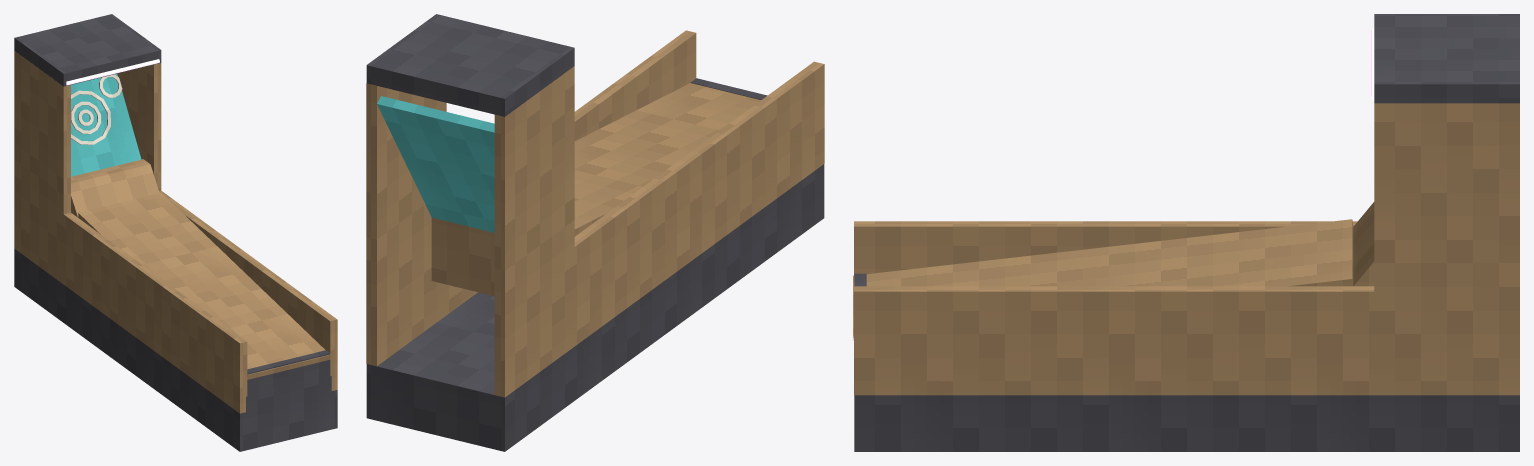
Rendered from three-d-retro-arcade-and-mall-1989-retro-arcade-and-mall-1989-skee-ball-lane-147fc3be.glb.
The picture shows the model from 3 angles, left to right: view 1: azimuth 30°, elevation 25°; view 2: azimuth 150°, elevation 25°; view 3: azimuth 270°, elevation 25°; orthographic projection. The views are drawn at different scales.
Visible parts, largest first — view 1: skee-ball-lane; view 2: skee-ball-lane; view 3: skee-ball-lane.
Part boxes in pixels (x1,y1,x2,y2): skee-ball-lane: (14, 14, 337, 451); skee-ball-lane: (366, 14, 824, 451); skee-ball-lane: (853, 14, 1519, 451).
Bounding box in the file's own units: 0.8001 × 1.95 × 3.2.
5 materials, 4 textured.
